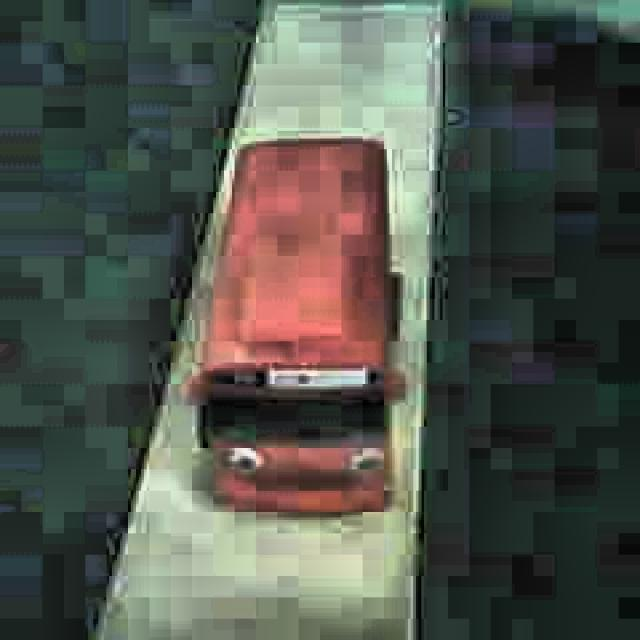bus: (186, 130, 408, 519)
